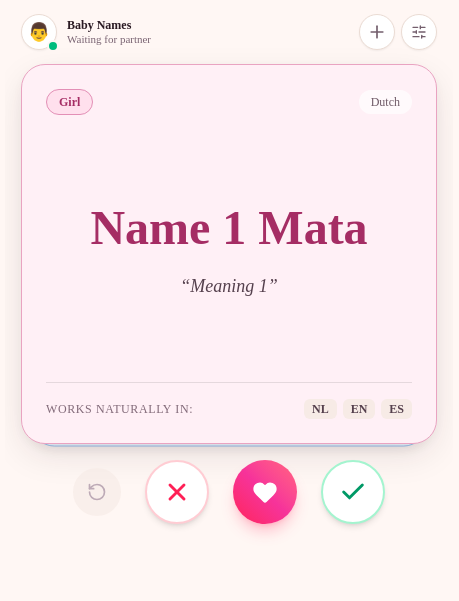
DeckScreen › restores a failed optimistic swipe and shows the error banner
Expected: the heading "Name 1 Mata" is shown, [90, 201, 368, 254]
Click the button named "Like this name" at (353, 492), box [321, 460, 385, 524]
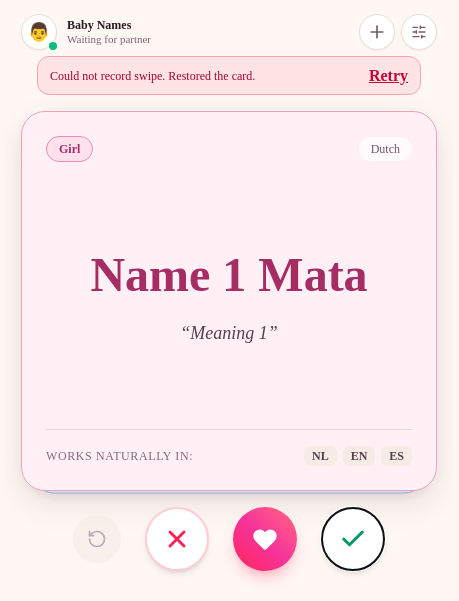
Expected: the heading "Name 1 Mata" is shown, [90, 248, 368, 302]
Result: the text "Could not record swipe. Restored the card." is shown at [50, 68, 255, 84]
Result: the button "Retry" is shown at [369, 65, 408, 86]
